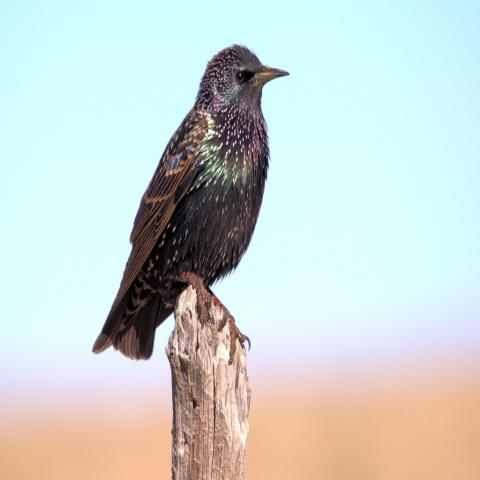bird: (91, 41, 290, 363)
